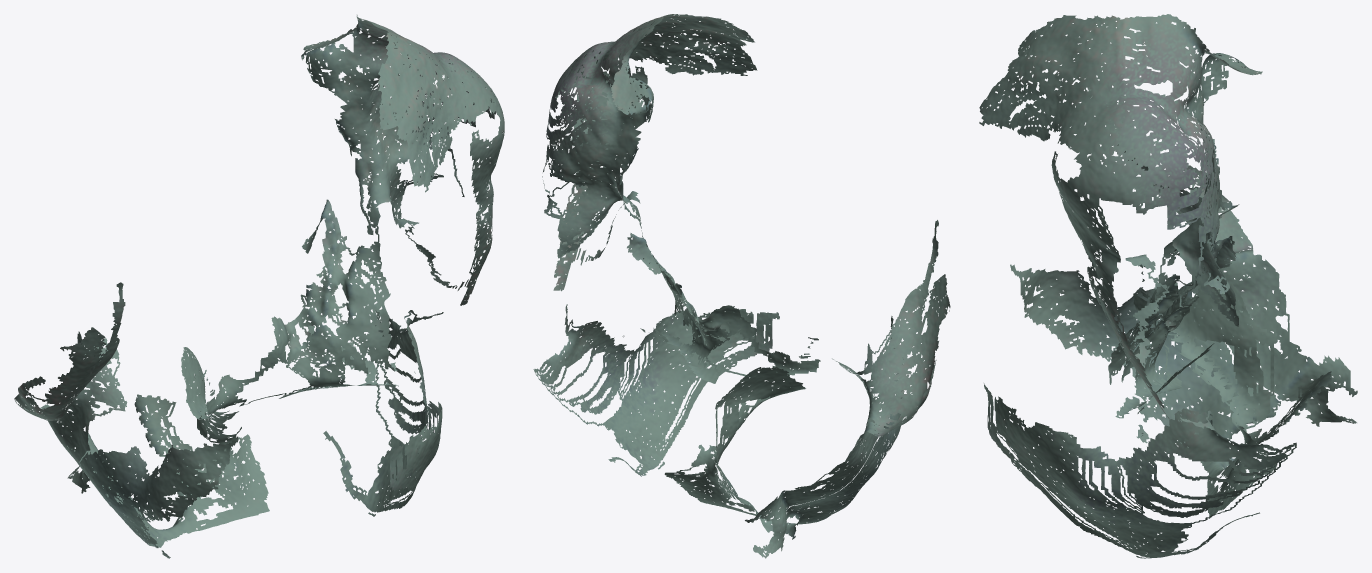
The model's file is cthulhu17_material_0.005_lev1.glb.
The picture shows the model from 3 angles, left to right: view 1: azimuth 30°, elevation 25°; view 2: azimuth 150°, elevation 25°; view 3: azimuth 270°, elevation 25°; orthographic projection. The views are drawn at different scales.
Parts seen in each view (by area): view 1: cthulhu17_material_0.005_lev1; view 2: cthulhu17_material_0.005_lev1; view 3: cthulhu17_material_0.005_lev1.
Boxes of the visible parts, x1,y1,x2,y2 form: cthulhu17_material_0.005_lev1: (14, 15, 504, 558); cthulhu17_material_0.005_lev1: (533, 14, 950, 558); cthulhu17_material_0.005_lev1: (979, 14, 1357, 558).
Bounding box in the file's own units: 2.67 × 2.86 × 1.79.
